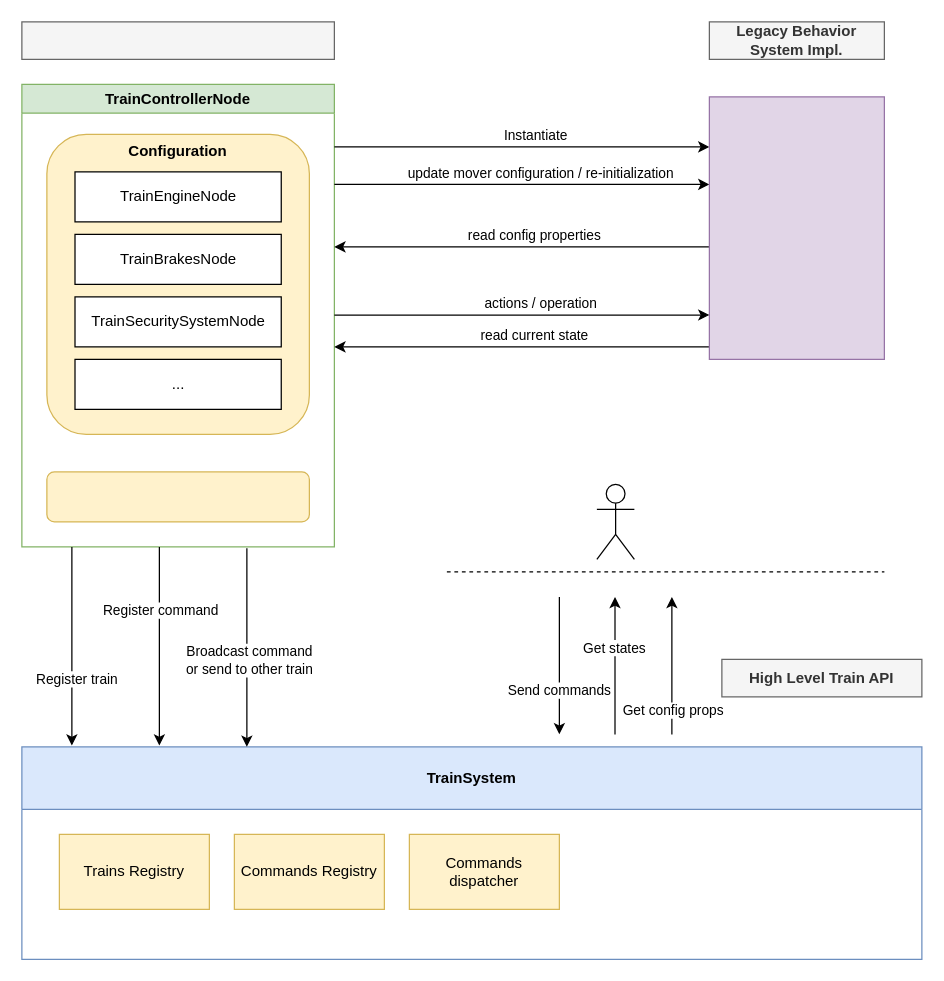
This 944x981 diagram has some shape labels left out. The centre of each missing label's shape, as x and y in pixels:
Current Train State: the point at 177,496
original physics Mover.c: the point at 796,227
Train / Cabin / UART / Other: the point at 615,521
Train Node-based API: the point at 177,40
